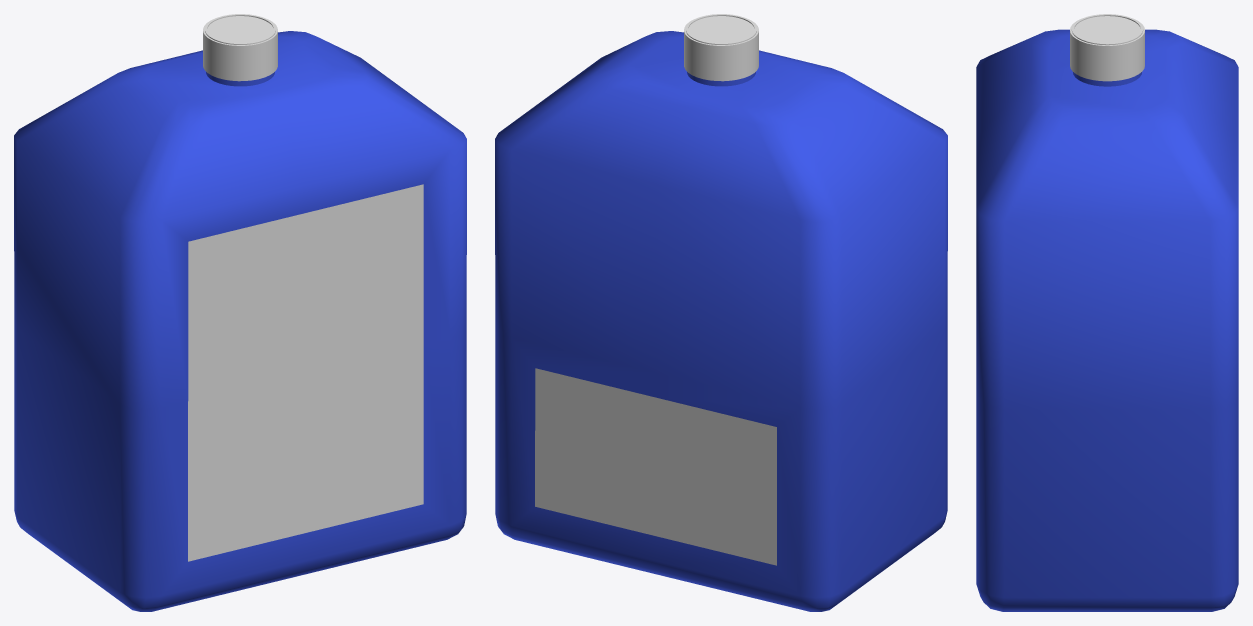
File: emptyJug.fbx
3 views of the same model, side by side, from view 1: azimuth 30°, elevation 25°; view 2: azimuth 150°, elevation 25°; view 3: azimuth 270°, elevation 25° (orthographic).
Parts seen in each view (by area): view 1: Empty Jug; view 2: Empty Jug; view 3: Empty Jug.
Boxes of the visible parts, x1=… form: Empty Jug: x1=14, y1=14, x2=466, y2=611; Empty Jug: x1=495, y1=14, x2=947, y2=611; Empty Jug: x1=976, y1=14, x2=1238, y2=611.
Size of the model in its own units: 473 by 668 by 312.
